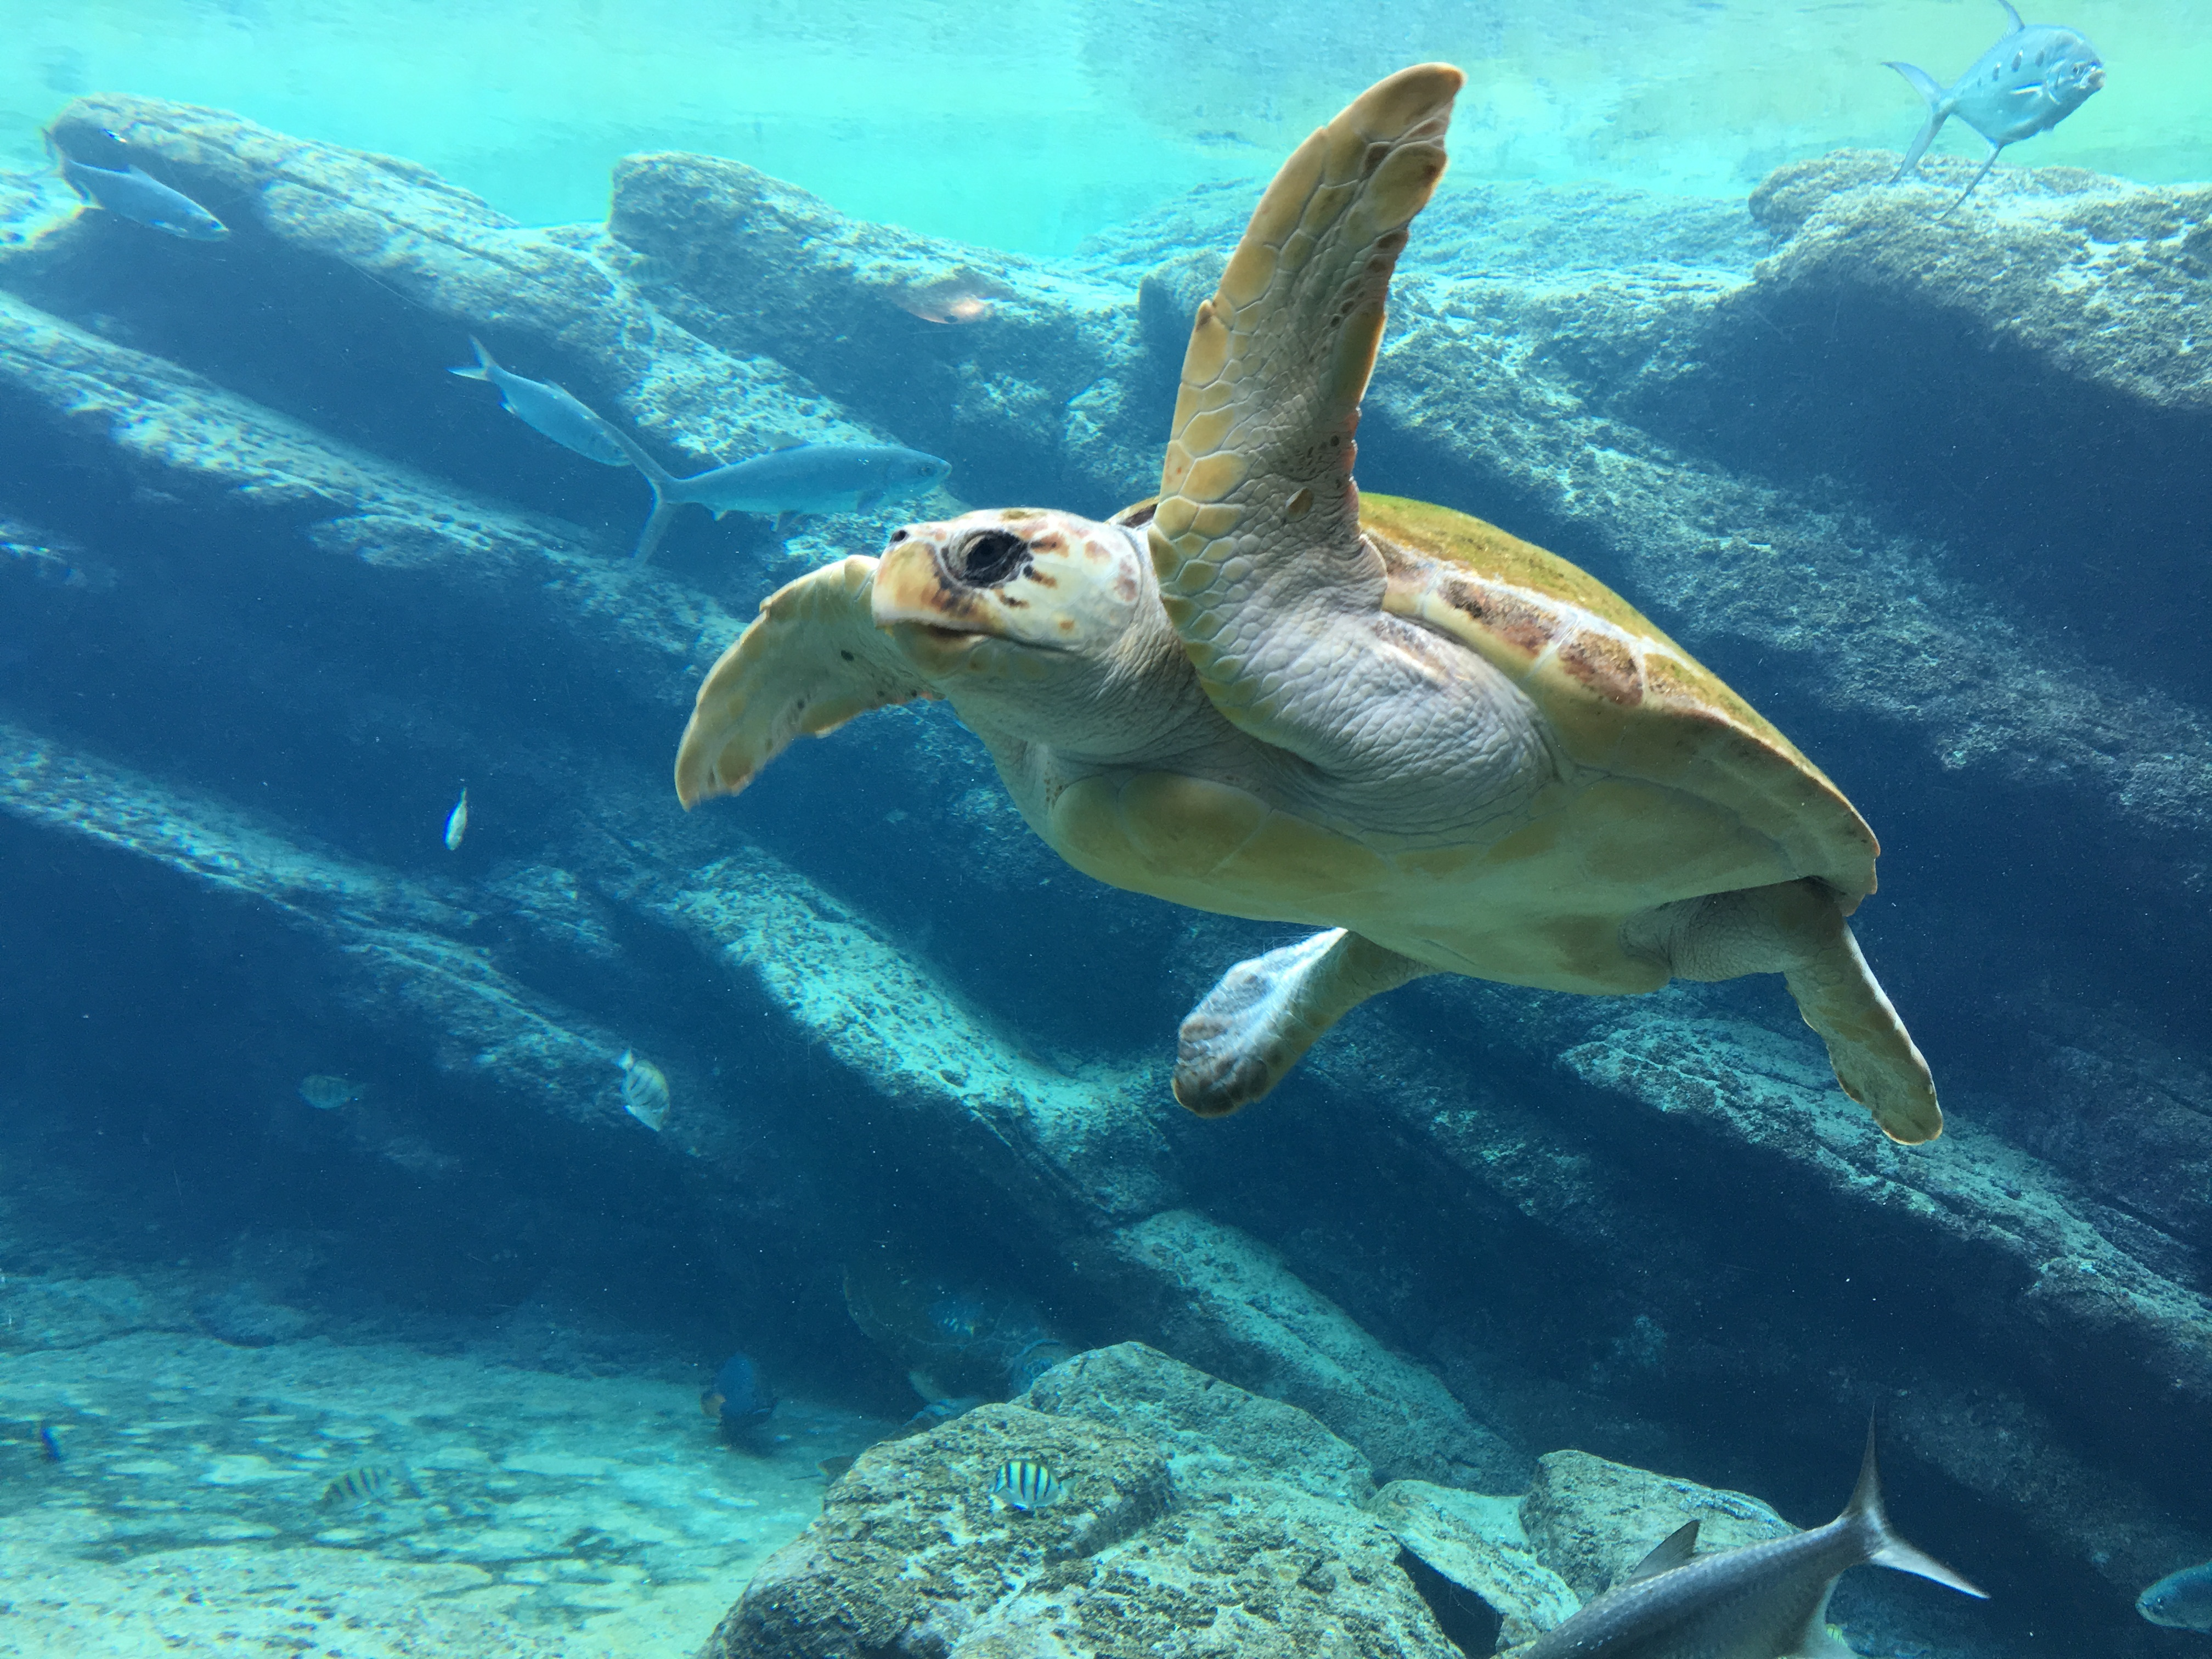fish: (1848, 21, 2123, 213), (603, 420, 979, 547), (439, 317, 641, 479)
trutle: (627, 84, 2020, 1201)
